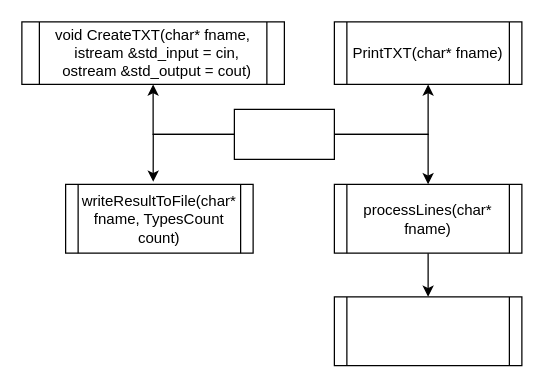
This 544x388 diagram has some shape labels left out. The shapes that lost their labels are listed below. From the top down, each one's centre as x and y in pixels, then its label:
the point at 283,133: main()
the point at 427,331: processLine(string line, TypesCount& count)
